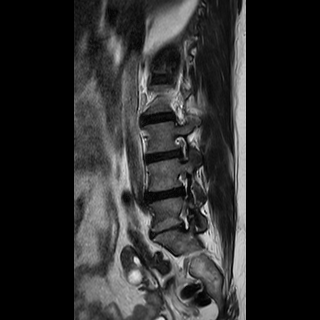RFS0: (167, 131, 197, 166)
